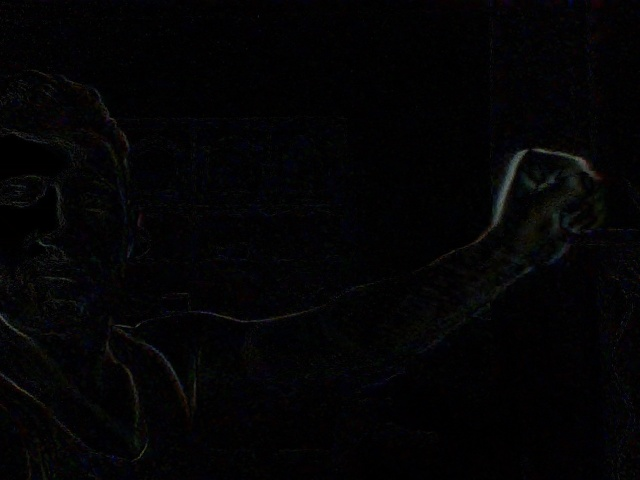hand_fi: (495, 134, 617, 279)
